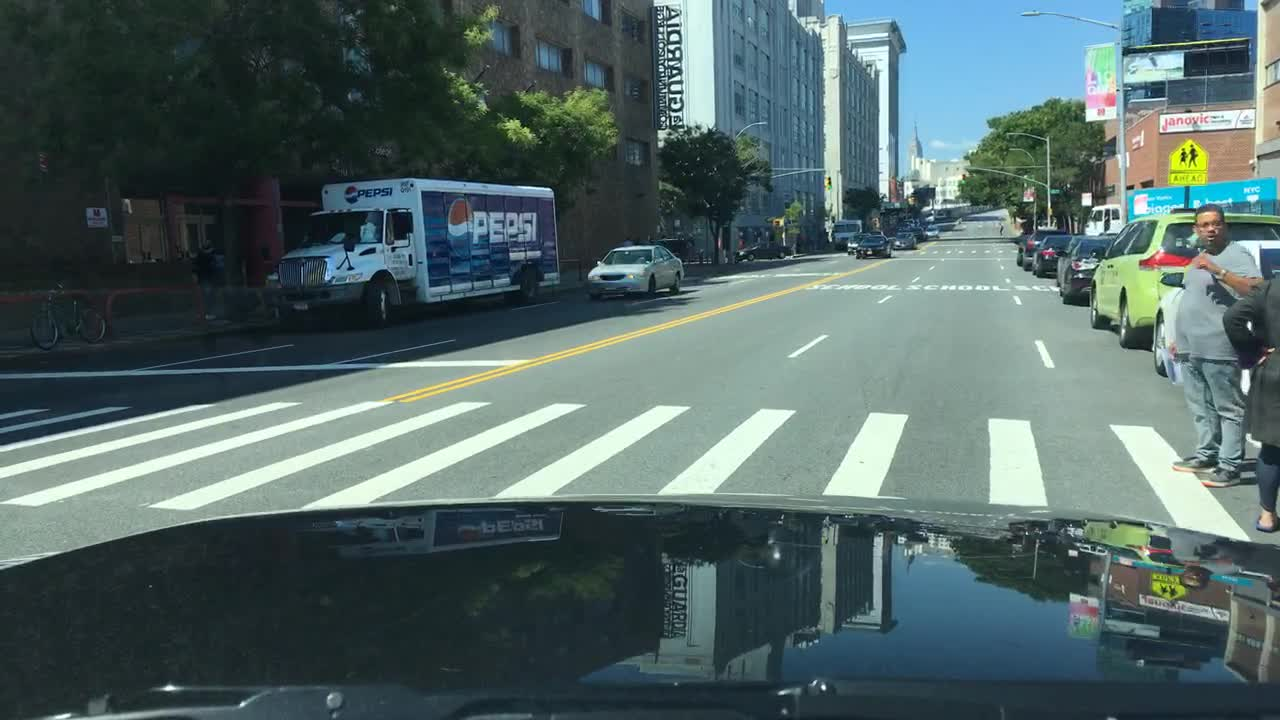bike: (26, 275, 108, 350)
car: (1088, 208, 1279, 349), (585, 242, 687, 301), (1052, 230, 1120, 306), (1015, 227, 1072, 270), (1032, 231, 1083, 279), (735, 238, 797, 262), (852, 230, 893, 261), (657, 235, 698, 263), (892, 230, 919, 250), (845, 231, 868, 254), (910, 224, 931, 242), (925, 221, 944, 240), (934, 214, 957, 229), (894, 224, 914, 233), (886, 234, 901, 245), (925, 213, 942, 222), (869, 228, 886, 236), (906, 218, 925, 224)
person: (1168, 200, 1269, 490), (1220, 258, 1279, 534), (191, 236, 226, 322), (997, 220, 1006, 235)
traffic light: (769, 215, 787, 228), (822, 172, 833, 189), (958, 172, 970, 184)
traffic sign: (1166, 139, 1211, 185), (85, 206, 111, 228), (1020, 185, 1037, 204), (1080, 190, 1095, 207), (1050, 185, 1061, 195)
truck: (259, 175, 562, 330), (1082, 173, 1278, 237), (832, 218, 866, 251)
